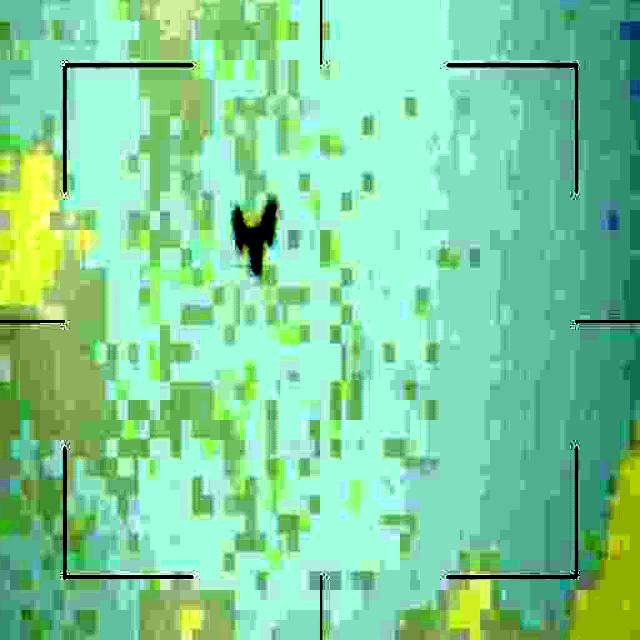bird: (229, 191, 285, 269)
